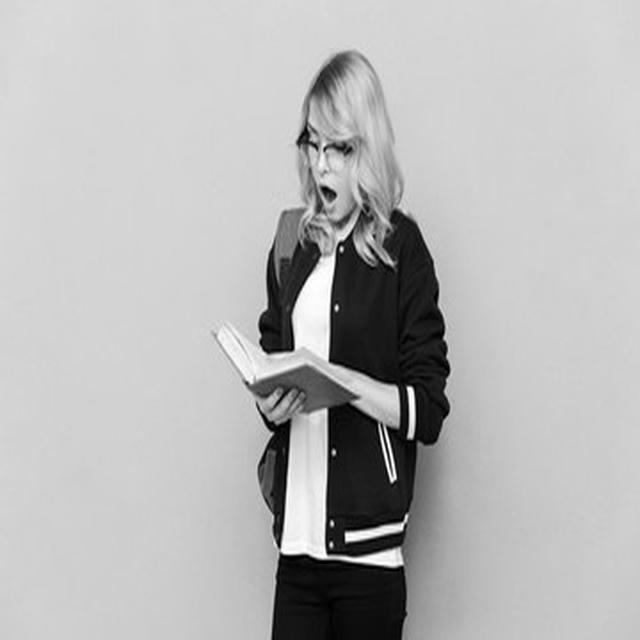Surprised: (307, 101, 360, 222)
